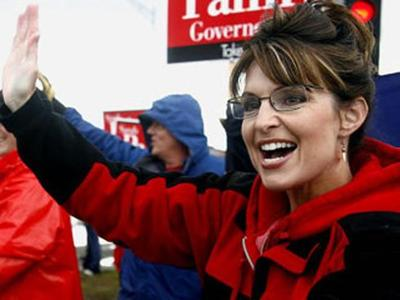person: (3, 4, 400, 300)
